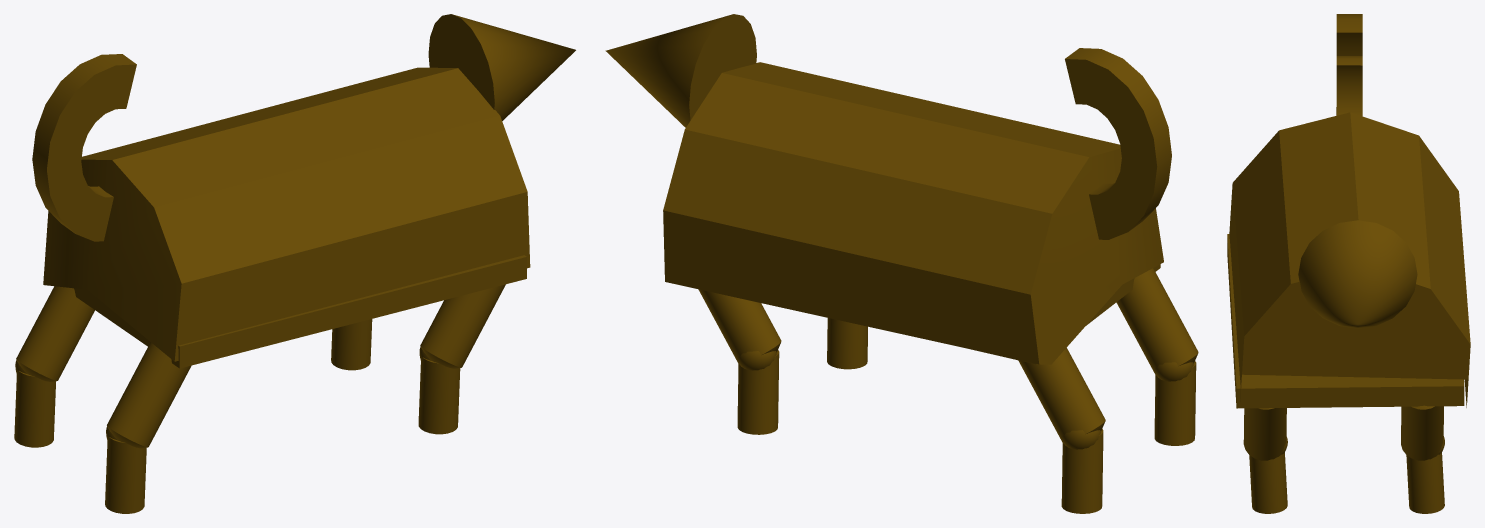
The model's file is sherlock.fbx.
The picture shows the model from 3 angles, left to right: view 1: azimuth 30°, elevation 25°; view 2: azimuth 150°, elevation 25°; view 3: azimuth 270°, elevation 25°; orthographic projection. The views are drawn at different scales.
Parts seen in each view (by area): view 1: pCylinder1, pPipe1, pCube1, pasted__pasted__pCylinder2 (×3), pCone1, pasted__pCylinder2 (×2), pCylinder2, pasted__pasted__pasted__pCylinder2; view 2: pCylinder1, pPipe1, pasted__pCylinder2 (×3), pCone1, pasted__pasted__pCylinder2 (×2), pCylinder2, pasted__pasted__pasted__pCylinder2; view 3: pCylinder1, pCone1, pCube1, pasted__pasted__pCylinder2 (×2), pPipe1, pasted__pCylinder2, pasted__pasted__pasted__pCylinder2.
Part boxes in pixels (box(x1,y1,x2,y2)): pCylinder1: box(43, 67, 530, 361); pPipe1: box(32, 54, 136, 241); pCube1: box(74, 255, 526, 368); pasted__pasted__pCylinder2 (×3): box(105, 284, 505, 513); pCone1: box(428, 14, 575, 120); pasted__pCylinder2 (×2): box(14, 342, 191, 448); pCylinder2: box(16, 286, 94, 381); pasted__pasted__pasted__pCylinder2: box(418, 357, 460, 434); pCylinder1: box(663, 62, 1163, 364); pPipe1: box(1065, 48, 1171, 239); pasted__pCylinder2 (×3): box(698, 268, 1198, 513); pCone1: box(605, 14, 756, 127); pasted__pasted__pCylinder2 (×2): box(737, 350, 1196, 445); pCylinder2: box(1018, 347, 1105, 443); pasted__pasted__pasted__pCylinder2: box(827, 318, 867, 369); pCylinder1: box(1229, 112, 1470, 407); pCone1: box(1298, 220, 1417, 328); pCube1: box(1227, 234, 1464, 408); pasted__pasted__pCylinder2 (×2): box(1243, 408, 1444, 513); pPipe1: box(1336, 14, 1362, 116); pasted__pCylinder2: box(1401, 405, 1443, 460); pasted__pasted__pasted__pCylinder2: box(1249, 452, 1287, 513).
Bounding box in the file's own units: 2.36 × 1.68 × 1.02.
